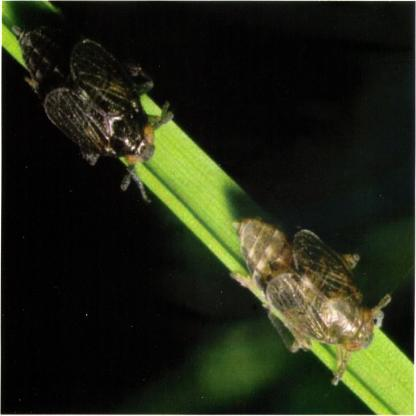rice-bug: (235, 215, 390, 367), (17, 22, 158, 166)
